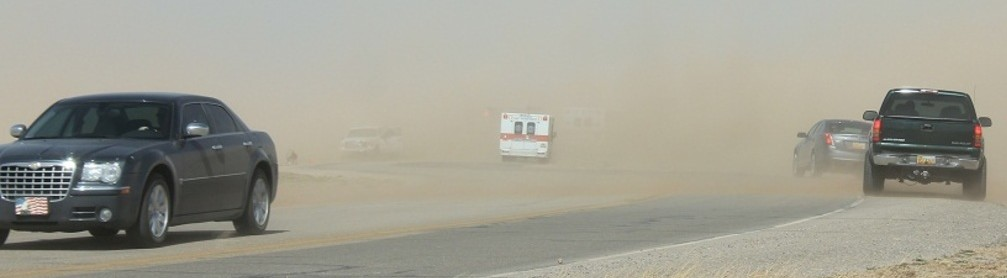car: (0, 92, 296, 248), (865, 90, 991, 199), (794, 117, 871, 175), (496, 109, 557, 162), (339, 126, 400, 158)
